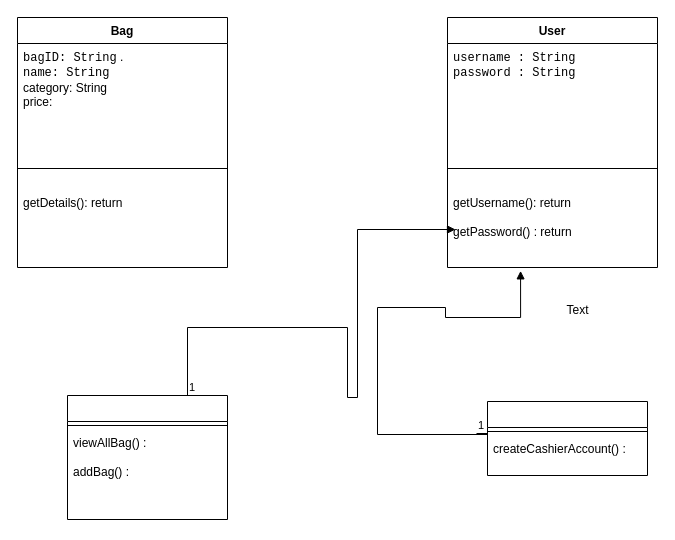
The diagram is 675 pixels wide and 540 high, and some of its shapes have lost their labels. Here are the shapes that lost their labels. From the top down, the box of each, then its label:
(66, 394, 228, 520): Cashier
(486, 400, 648, 476): Manager
